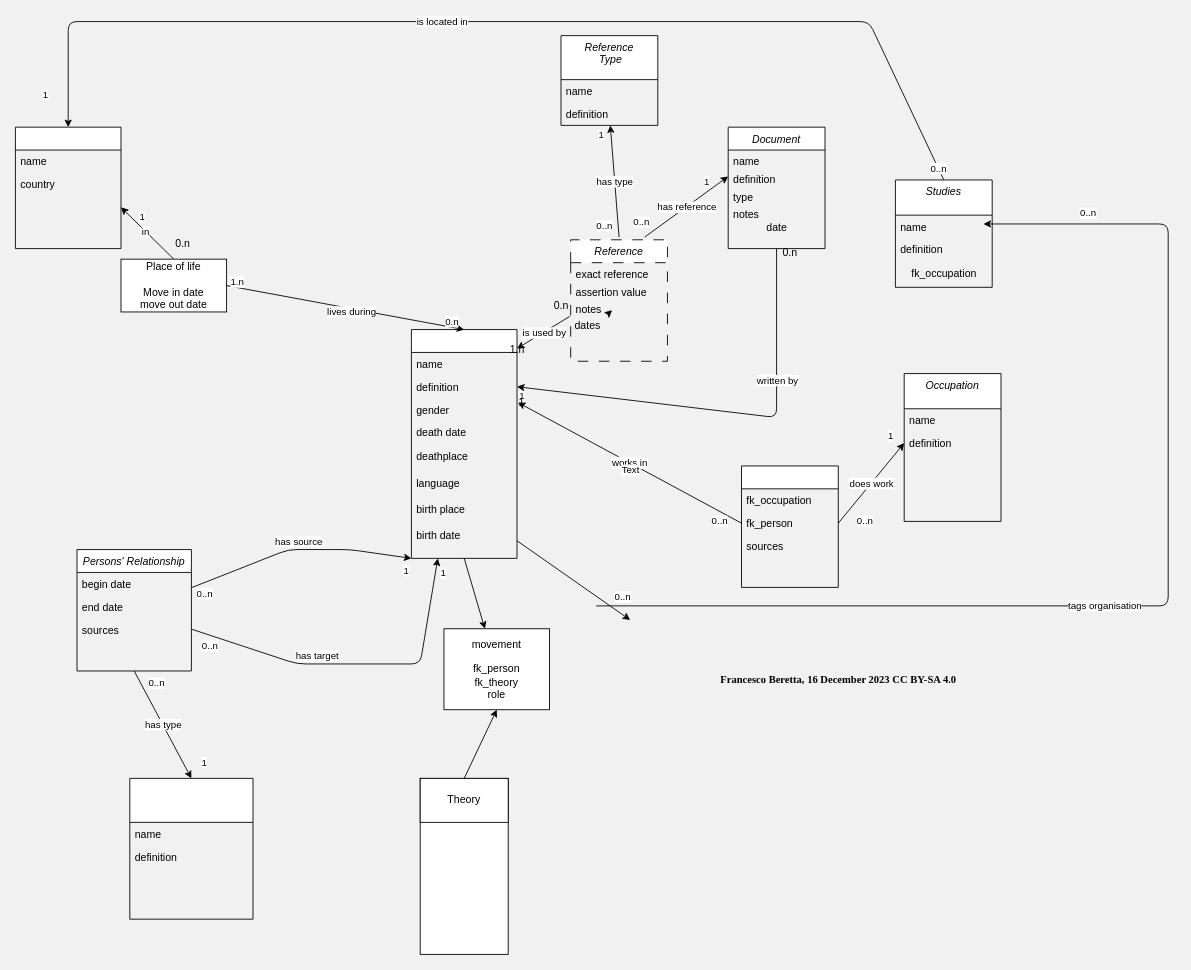
Image size: 1191x970. Some labels were removed from this diagram. Each missing label, with the box of its shape:
Geographical place: (15, 126, 121, 249)
name definition: (419, 777, 508, 954)
Person: (411, 329, 517, 558)
person occupation: (741, 465, 838, 587)
Persons' Relationship Type: (129, 777, 253, 919)
